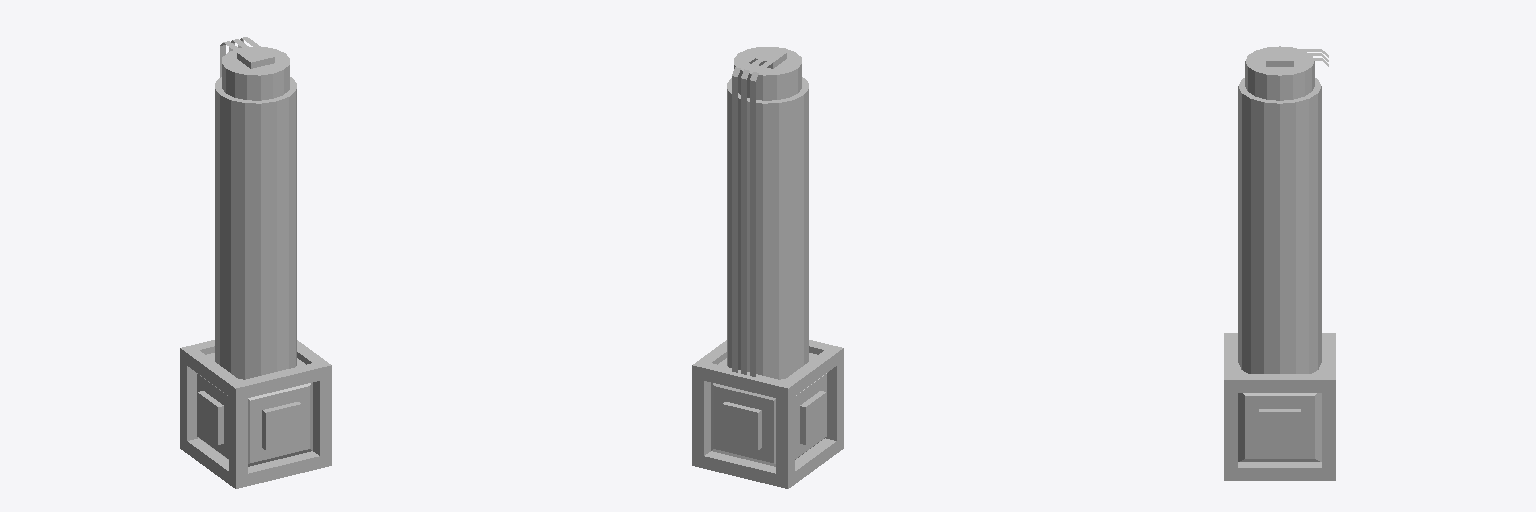
Rendered from centrifuge.obj.
3 views of the same model, side by side, from view 1: azimuth 30°, elevation 25°; view 2: azimuth 150°, elevation 25°; view 3: azimuth 270°, elevation 25° (orthographic).
Parts seen in each view (by area): view 1: Cube_Cube.001; view 2: Cube_Cube.001; view 3: Cube_Cube.001.
Boxes of the visible parts, x1,y1,x2,y2 form: Cube_Cube.001: [180, 37, 331, 488]; Cube_Cube.001: [692, 47, 843, 488]; Cube_Cube.001: [1224, 46, 1335, 480].
Bounding box in the file's own units: 1 × 4 × 1.